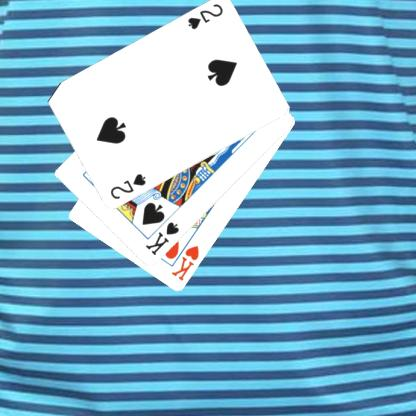2S: (107, 171, 147, 201), (184, 2, 224, 31)
KH: (169, 243, 201, 283)
KS: (143, 219, 181, 257)
